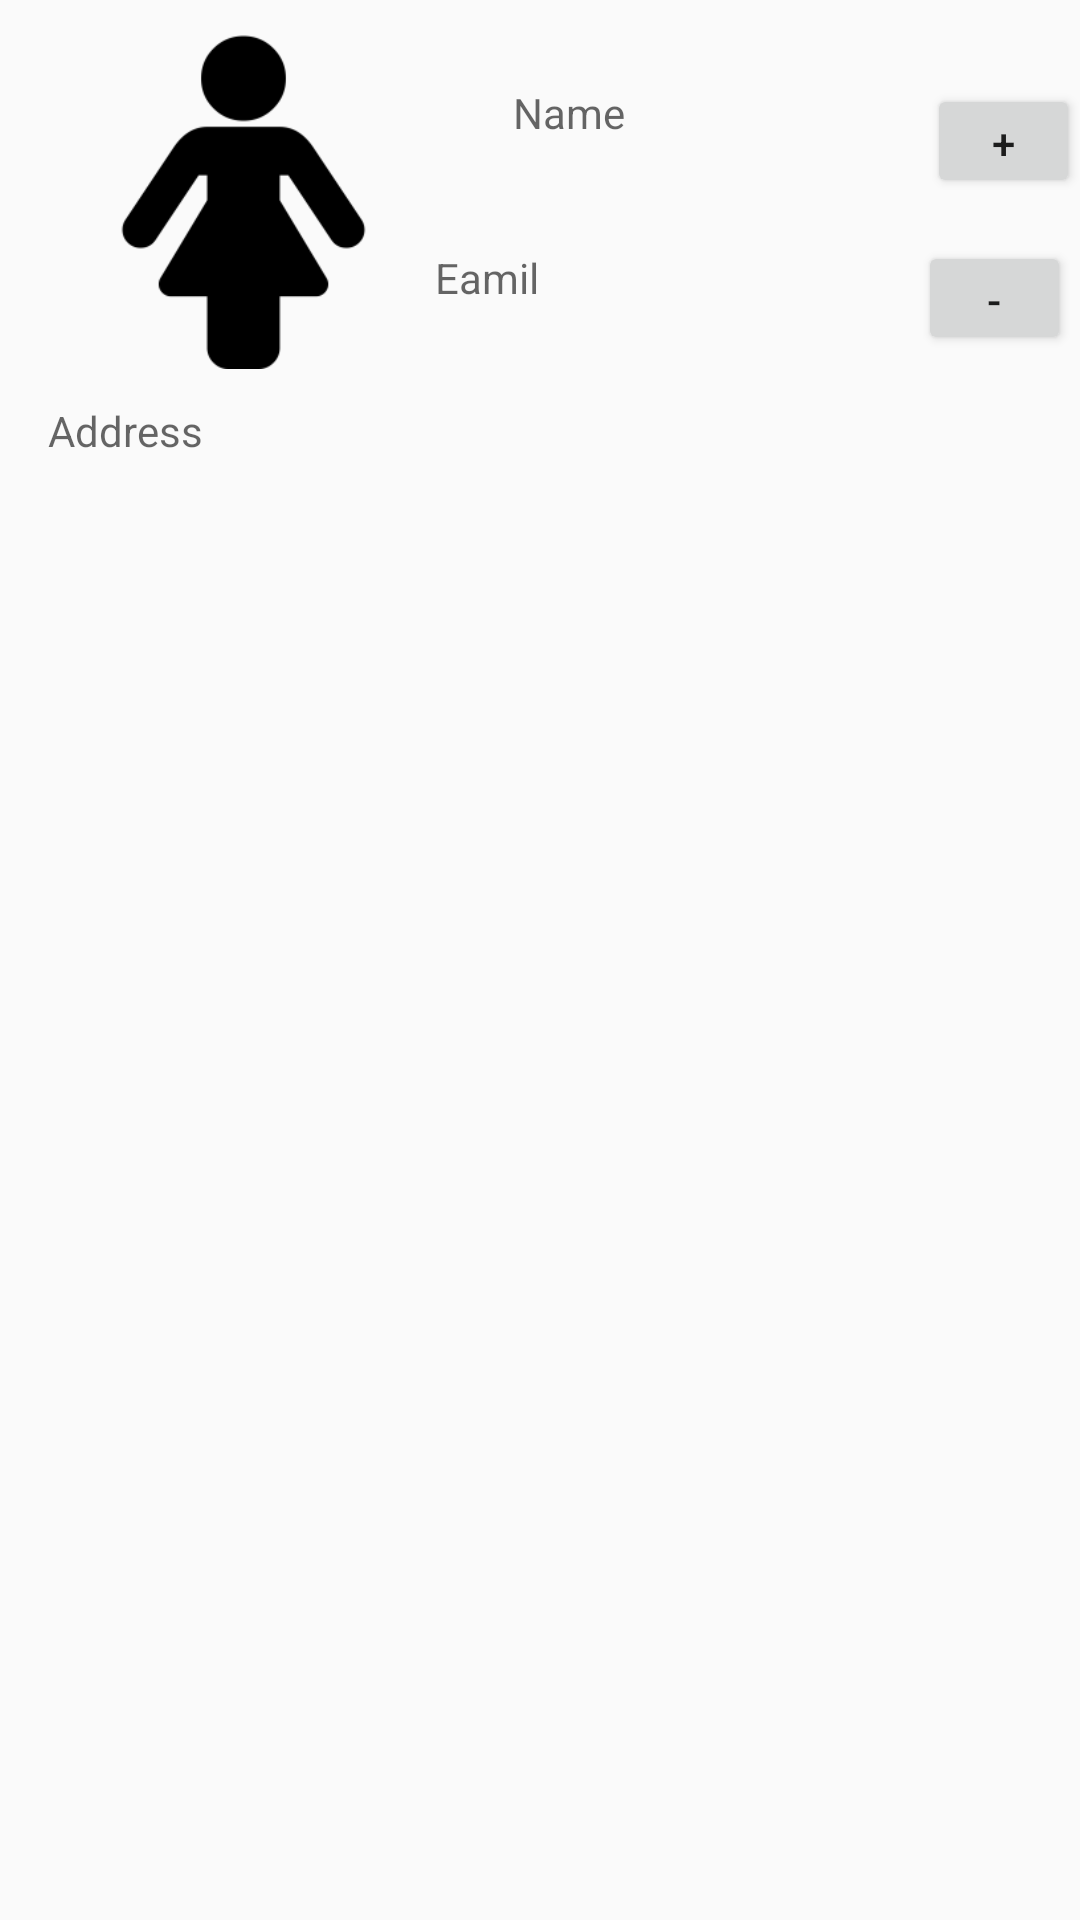

Point at icon controls on the screen. Image size 1080px×1920px, points as (x=x, y=y).
iconfinder female: (x=243, y=202)
